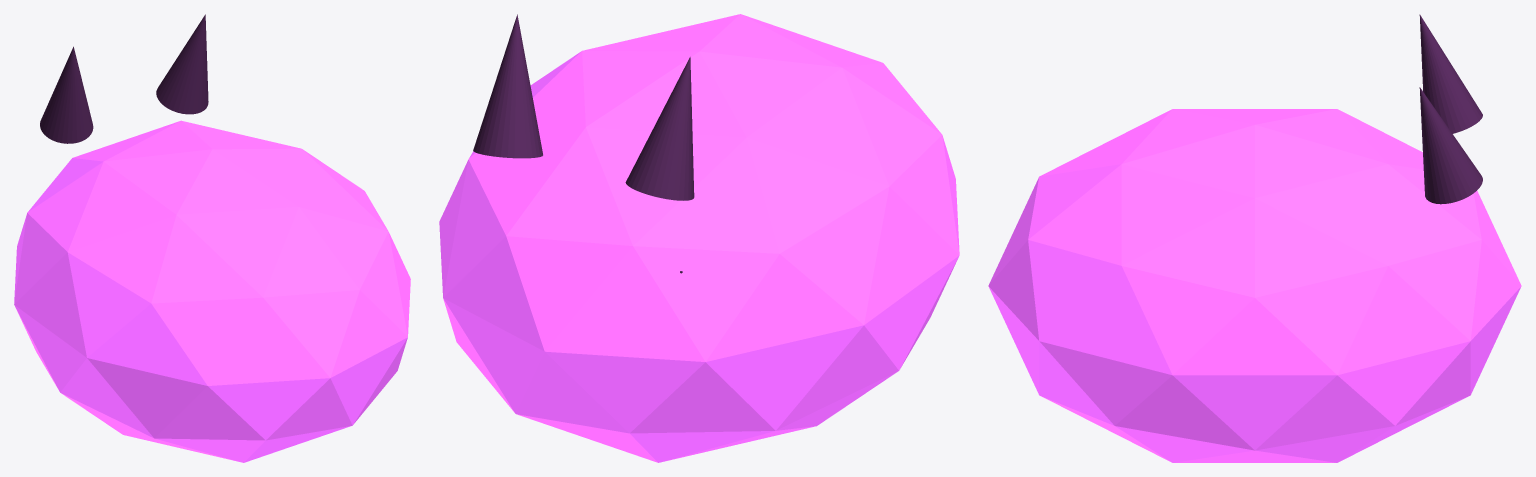
Rendered from enemy.glb.
3 views of the same model, side by side, from view 1: azimuth 30°, elevation 25°; view 2: azimuth 150°, elevation 25°; view 3: azimuth 270°, elevation 25° (orthographic). The views are drawn at different scales.
Parts seen in each view (by area): view 1: EnemyBody, EnemyHornR, EnemyHornL; view 2: EnemyBody, EnemyHornL, EnemyHornR; view 3: EnemyBody, EnemyHornR, EnemyHornL.
Boxes of the visible parts, left/top/right/bottom form: EnemyBody: left=14, top=120, right=410, bottom=462; EnemyHornR: left=156, top=14, right=208, bottom=114; EnemyHornL: left=40, top=46, right=93, bottom=143; EnemyBody: left=439, top=14, right=959, bottom=462; EnemyHornL: left=625, top=57, right=694, bottom=200; EnemyHornR: left=473, top=14, right=542, bottom=158; EnemyBody: left=988, top=109, right=1521, bottom=462; EnemyHornR: left=1419, top=87, right=1482, bottom=204; EnemyHornL: left=1419, top=14, right=1482, bottom=133.
Bounding box in the file's own units: 0.4185 × 0.4333 × 0.528.
